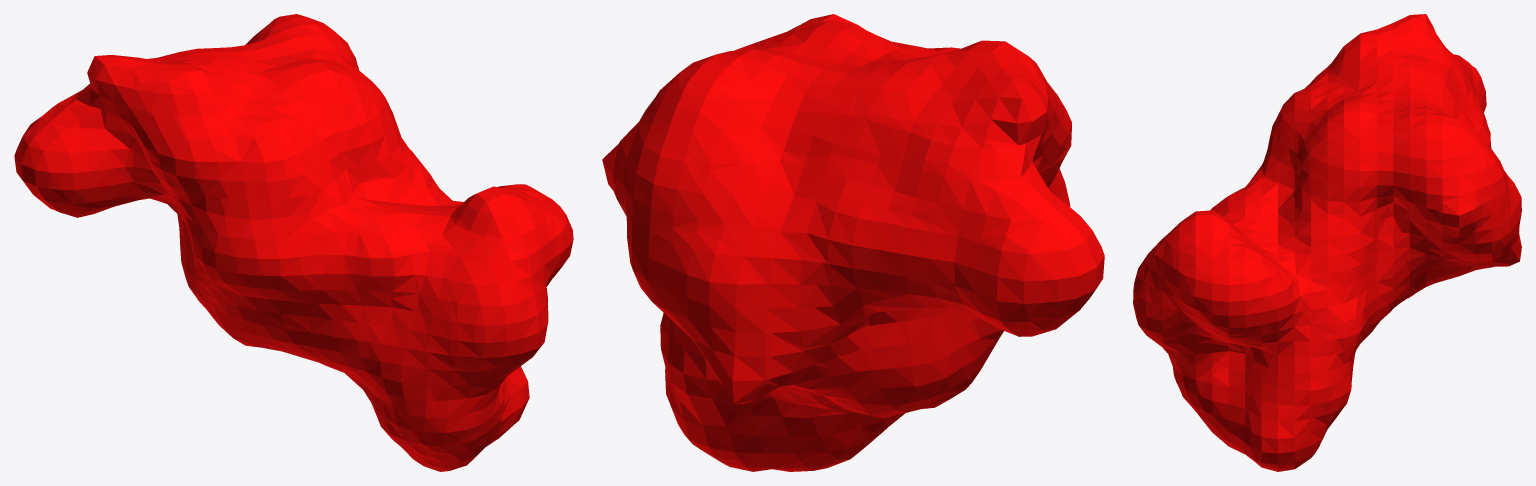
File: fdoI_coarse.dae
The picture shows the model from 3 angles, left to right: view 1: azimuth 30°, elevation 25°; view 2: azimuth 150°, elevation 25°; view 3: azimuth 270°, elevation 25°; orthographic projection. The views are drawn at different scales.
Parts seen in each view (by area): view 1: fdoI; view 2: fdoI; view 3: fdoI.
Part boxes in pixels (box(x1,y1,x2,y2)): fdoI: box(14, 14, 573, 471); fdoI: box(602, 14, 1104, 471); fdoI: box(1133, 14, 1521, 471).
Size of the model in its own units: 60.44 by 55.2 by 57.46.
